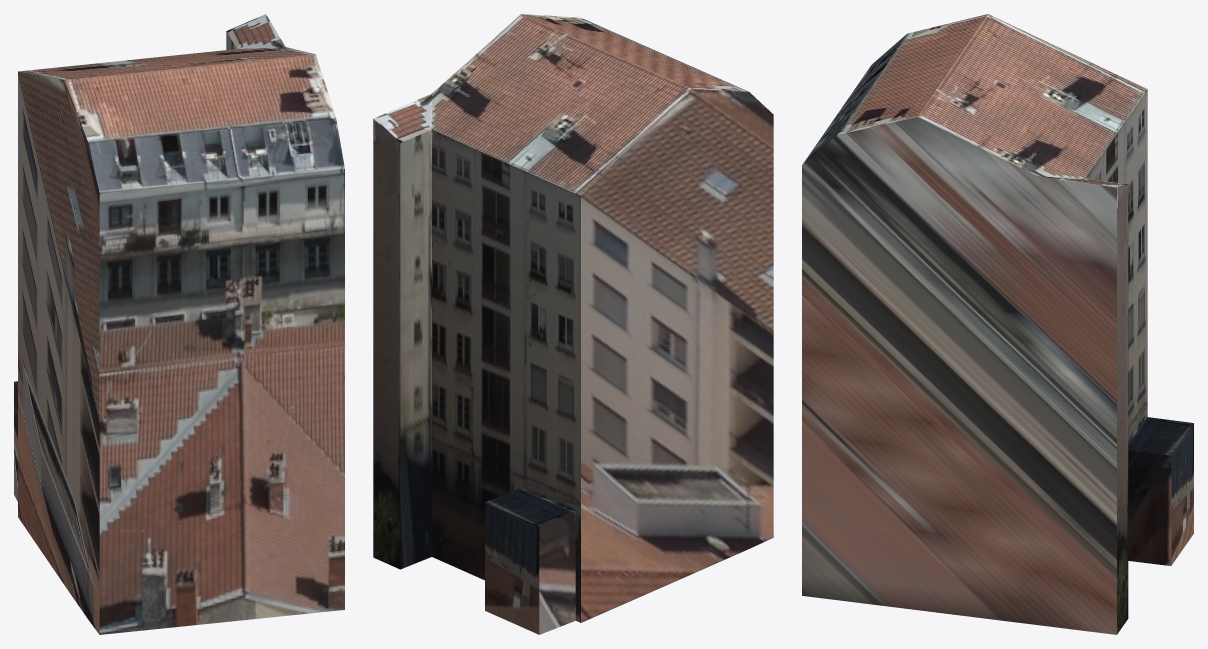
3 views of the same model, side by side, from view 1: azimuth 30°, elevation 25°; view 2: azimuth 150°, elevation 25°; view 3: azimuth 270°, elevation 25° (orthographic). The views are drawn at different scales.
Visible parts, largest first — view 1: Z_UP; view 2: Z_UP; view 3: Z_UP.
Boxes of the visible parts, x1,y1,x2,y2 form: Z_UP: (14, 14, 344, 634); Z_UP: (373, 14, 773, 634); Z_UP: (802, 14, 1193, 634).
Bounding box in the file's own units: 17.81 × 29.46 × 21.2.
Materials: 2 (1 with a texture image).
